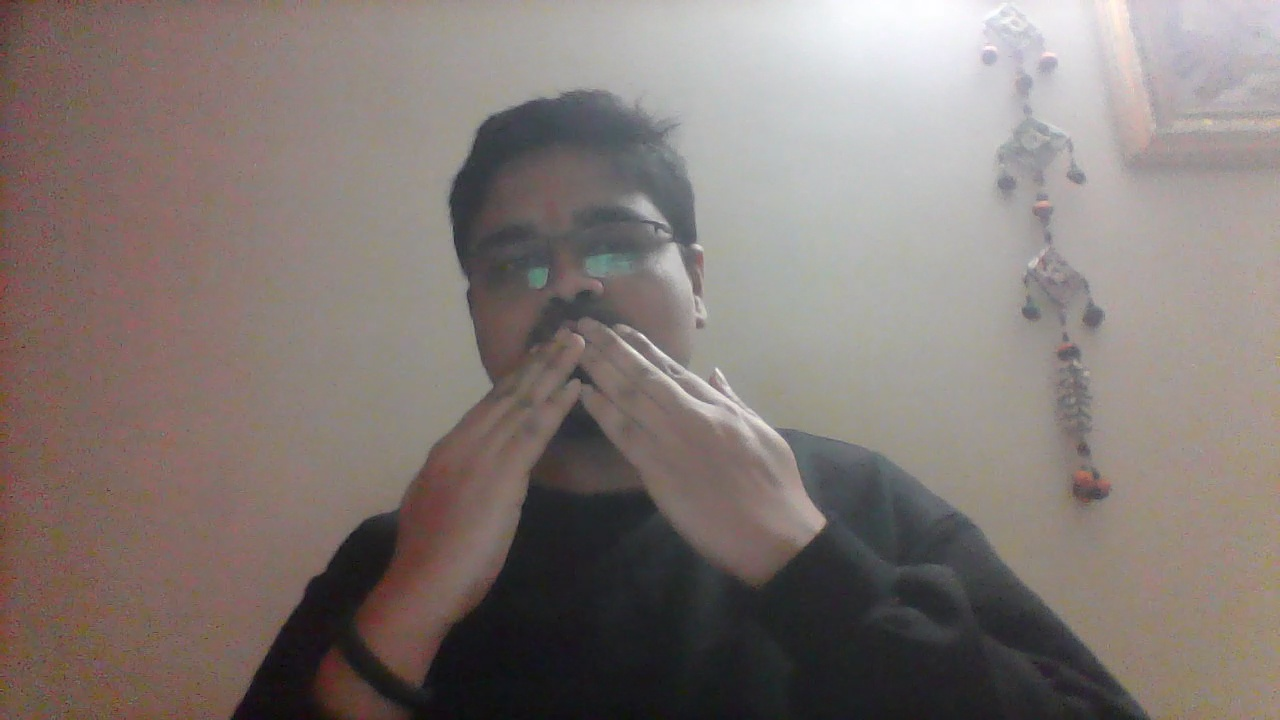Thanks: (390, 317, 791, 604)
